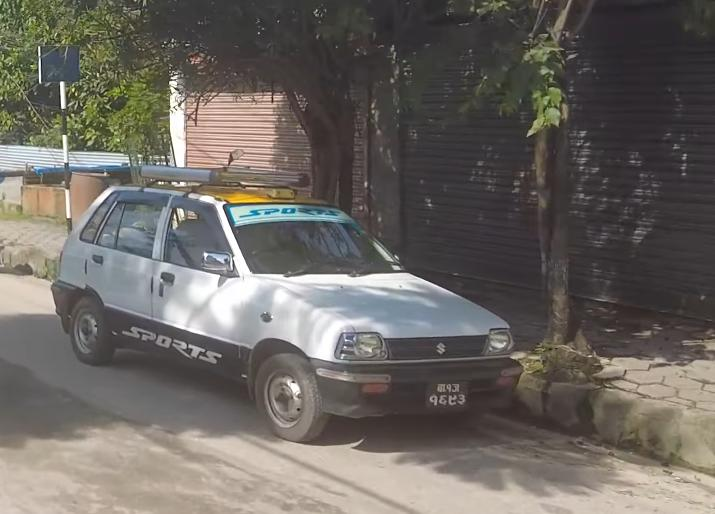taxi: (45, 164, 528, 445)
